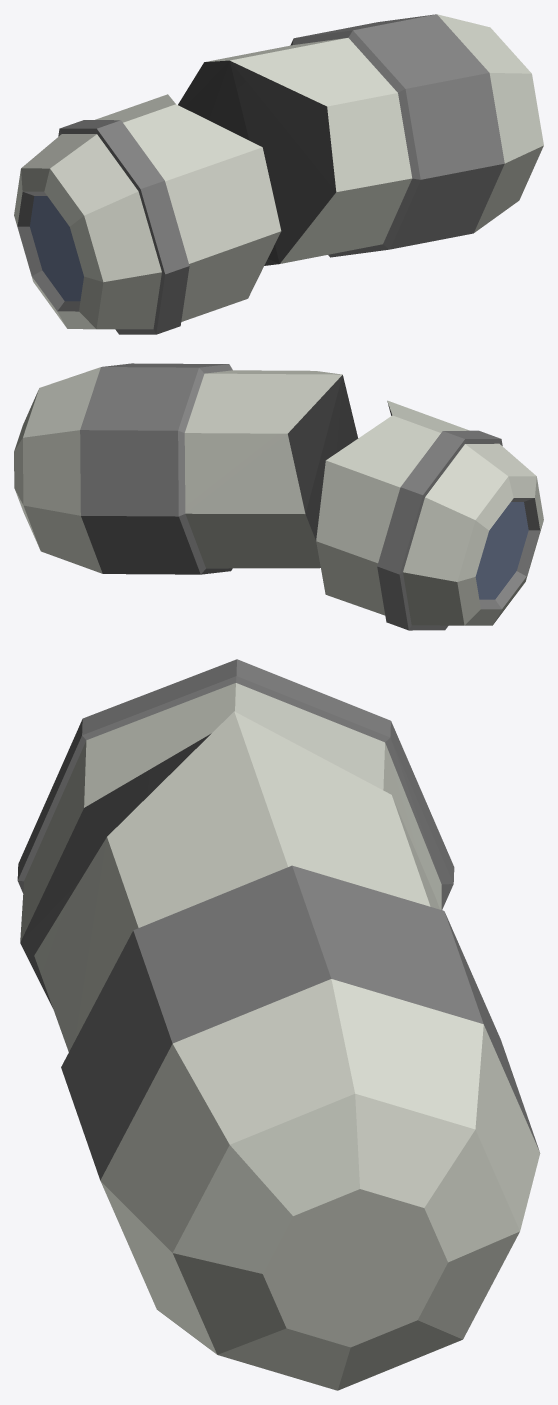
The model's file is satellite_crashed.fbx.
3 renders of one model, top to bottom at view 1: azimuth 30°, elevation 25°; view 2: azimuth 150°, elevation 25°; view 3: azimuth 270°, elevation 25°, orthographic. The views are drawn at different scales.
Parts seen in each view (by area): view 1: satellite_crashed; view 2: satellite_crashed; view 3: satellite_crashed.
Part boxes in pixels (bbox=[...]): satellite_crashed: bbox=[14, 14, 543, 334]; satellite_crashed: bbox=[14, 363, 543, 630]; satellite_crashed: bbox=[17, 659, 540, 1390].
Size of the model in its own units: 479 by 227 by 234.
